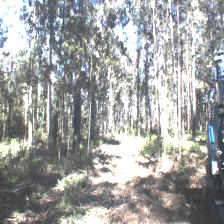trunktrack_idkeyframe: (73, 97, 81, 148), (191, 90, 197, 141)
